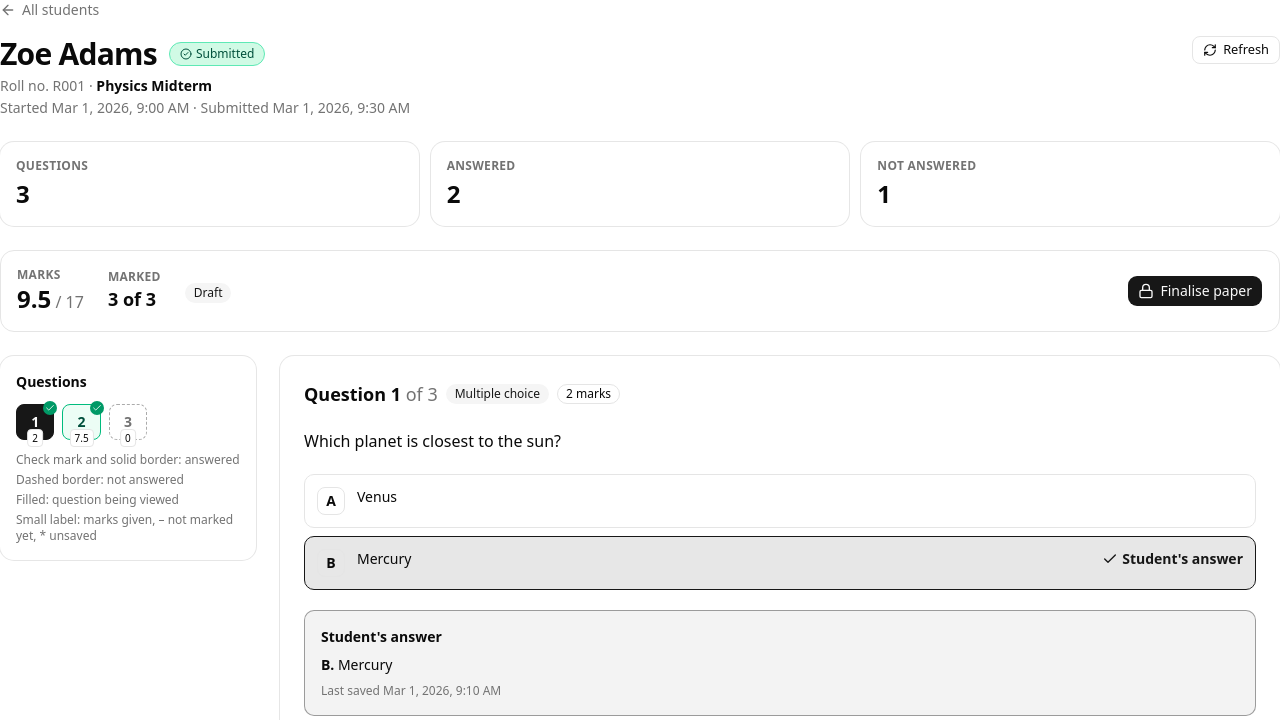
Scenario: finalising and reopening a paper › changes nothing when the teacher keeps marking
expect the element named "Paper marks" is shown: met, box x1=17 y1=267 x2=232 y2=315
Step 1. Click the button "Finalise paper" → {"x": 1195, "y": 291}, box x1=1127 y1=275 x2=1263 y2=307
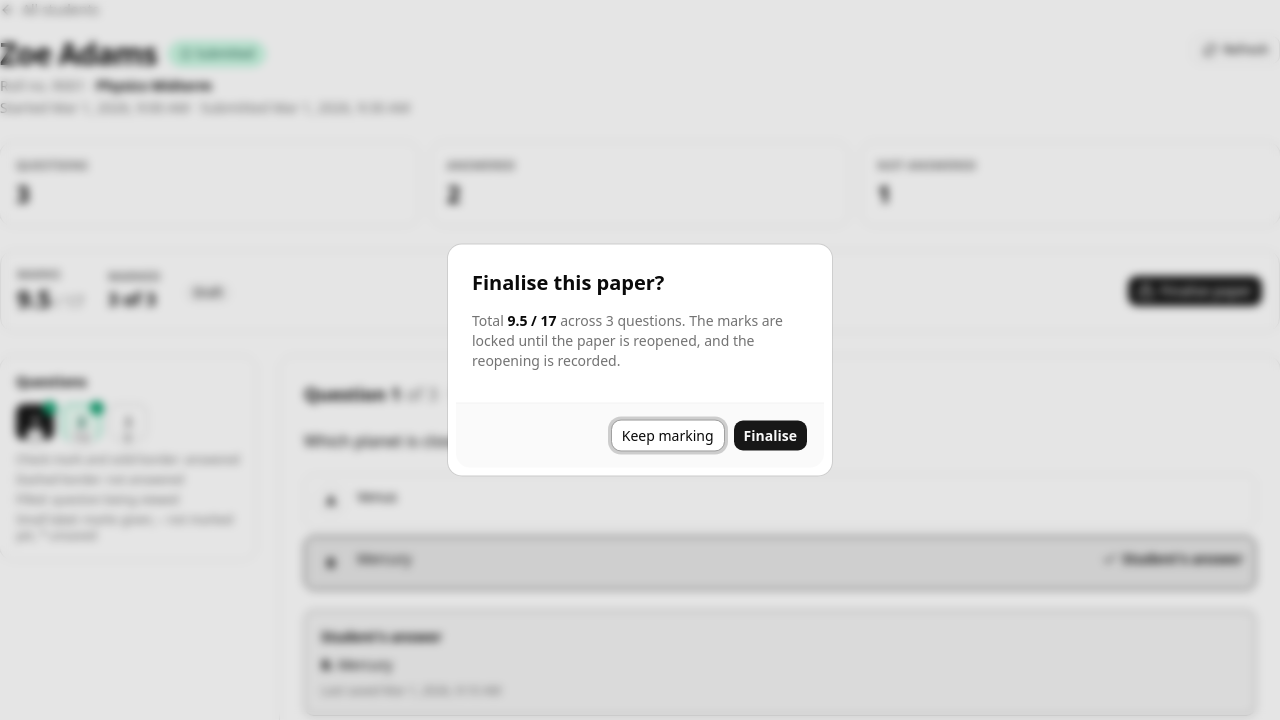
Step 2. Click the button "Keep marking" → {"x": 668, "y": 436}, box x1=611 y1=420 x2=725 y2=452
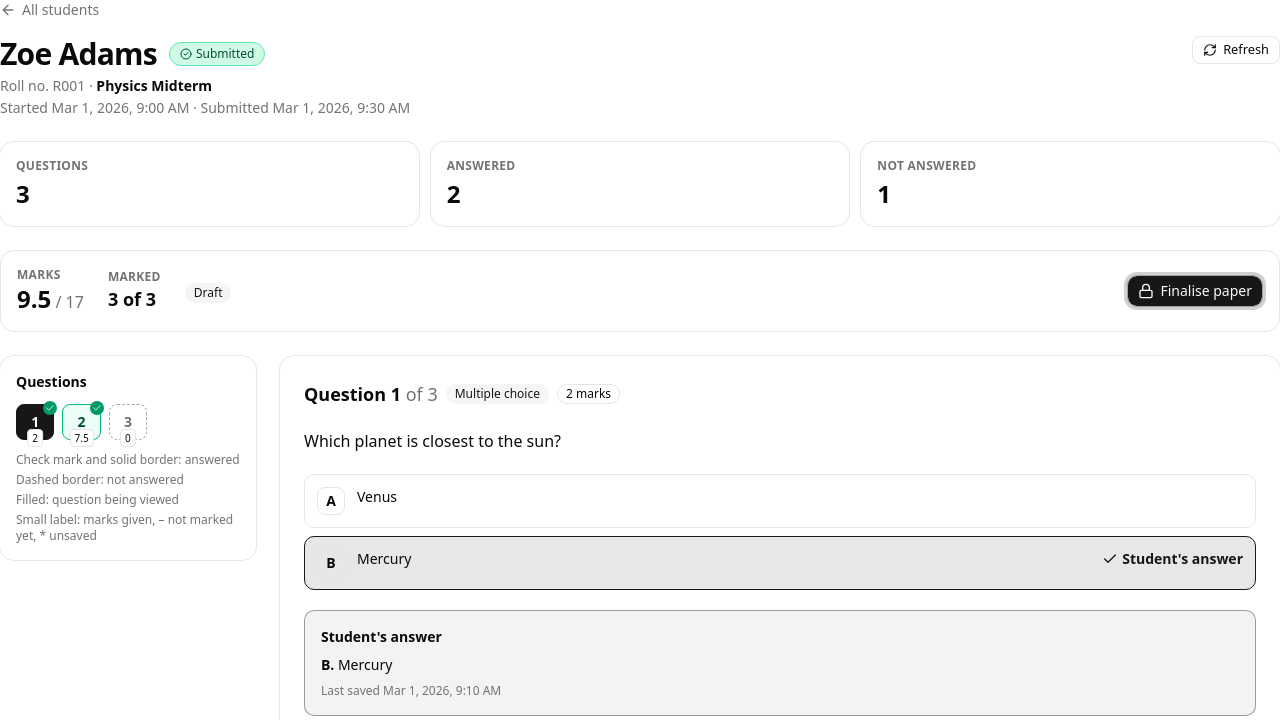
expect the dialog is gone: met
